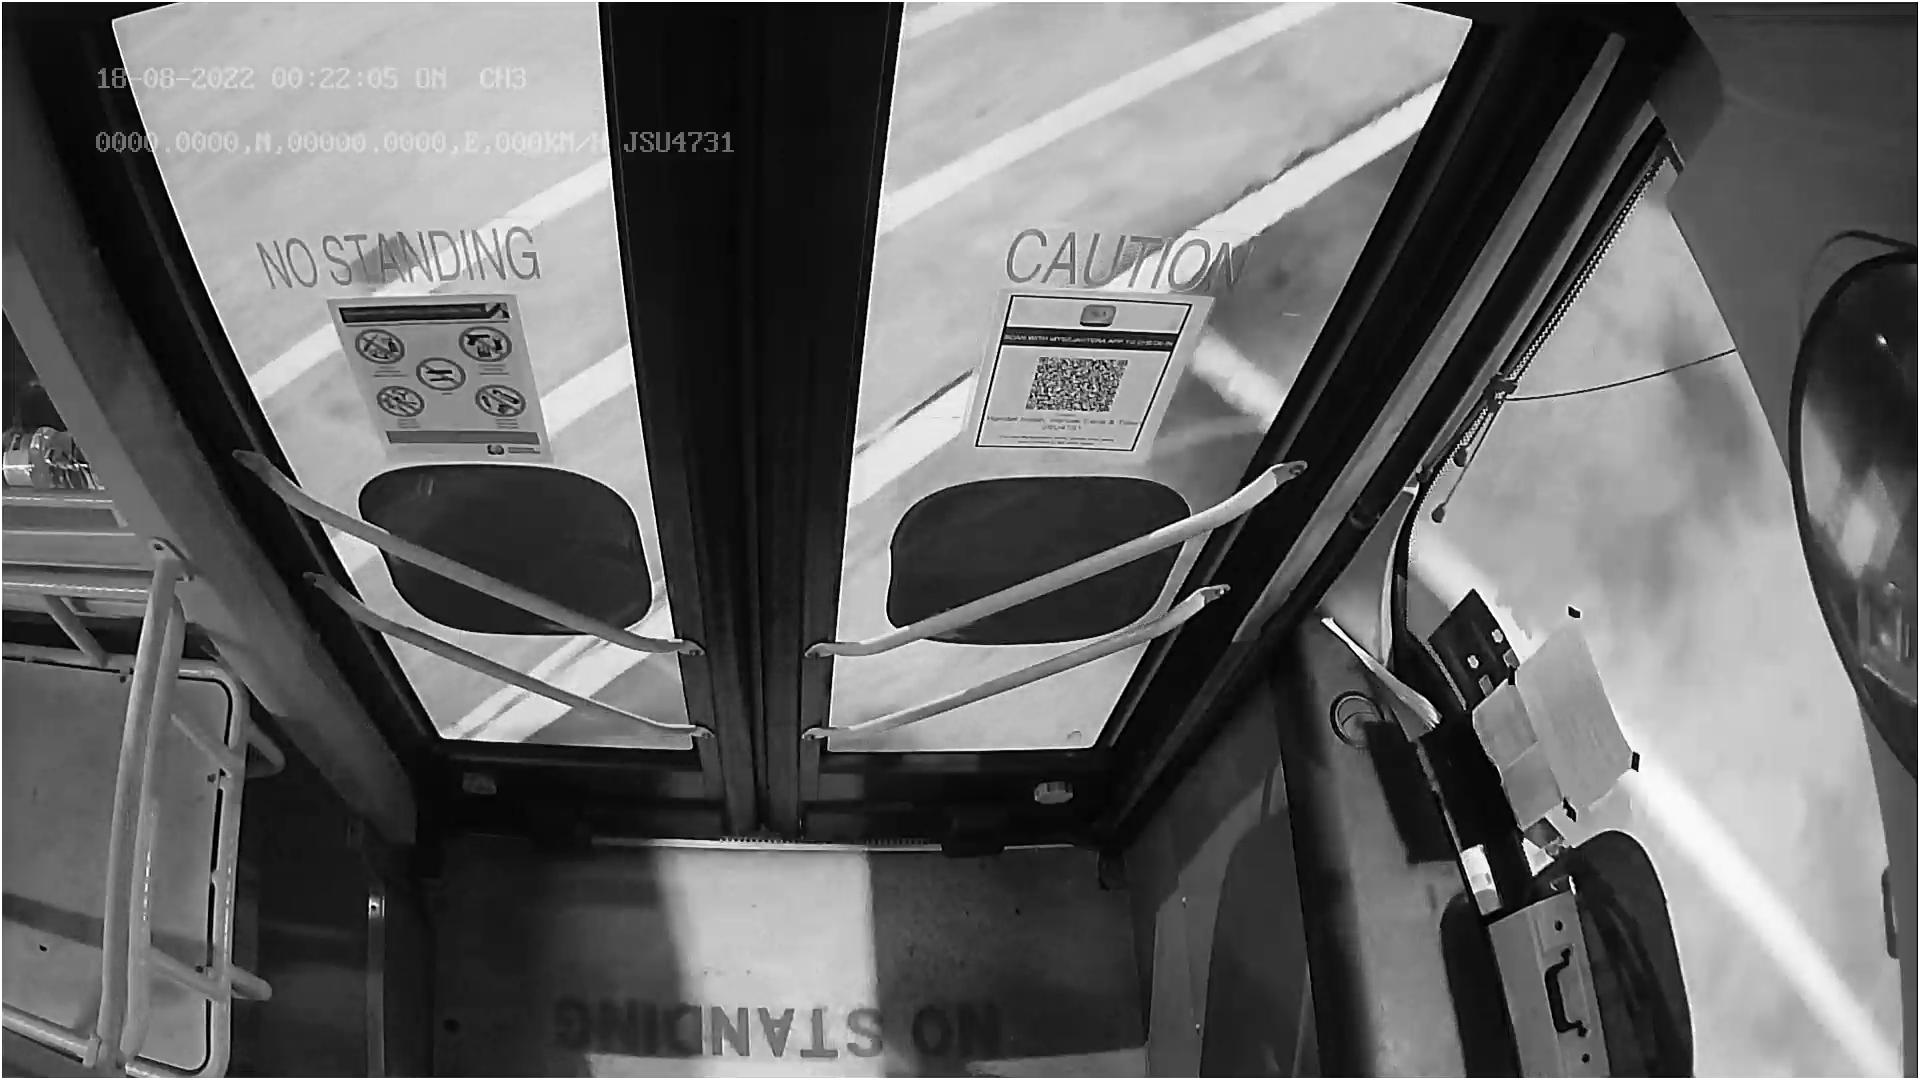close: (127, 0, 1453, 157)
